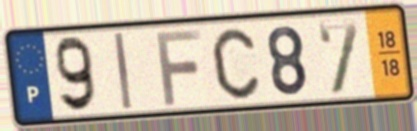7: (316, 17, 361, 97)
8: (265, 23, 311, 97)
9: (53, 34, 98, 114)
C: (209, 25, 262, 101)
F: (153, 27, 204, 108)
I: (111, 30, 134, 112)
